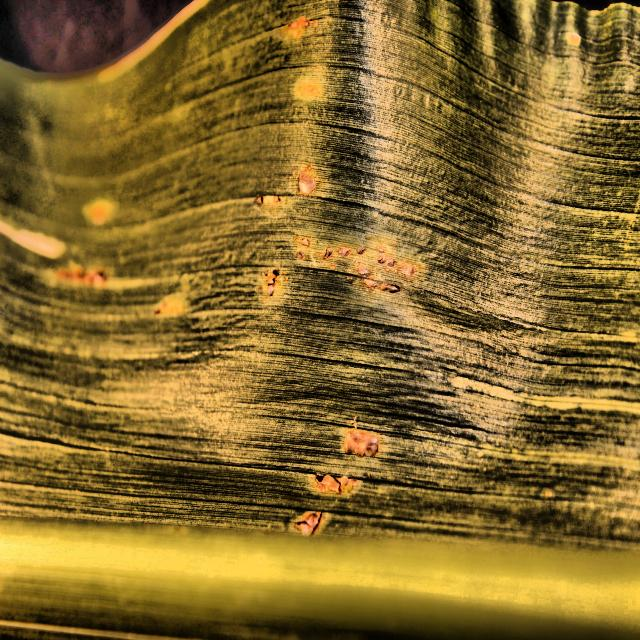common_rust: (17, 4, 640, 640)
